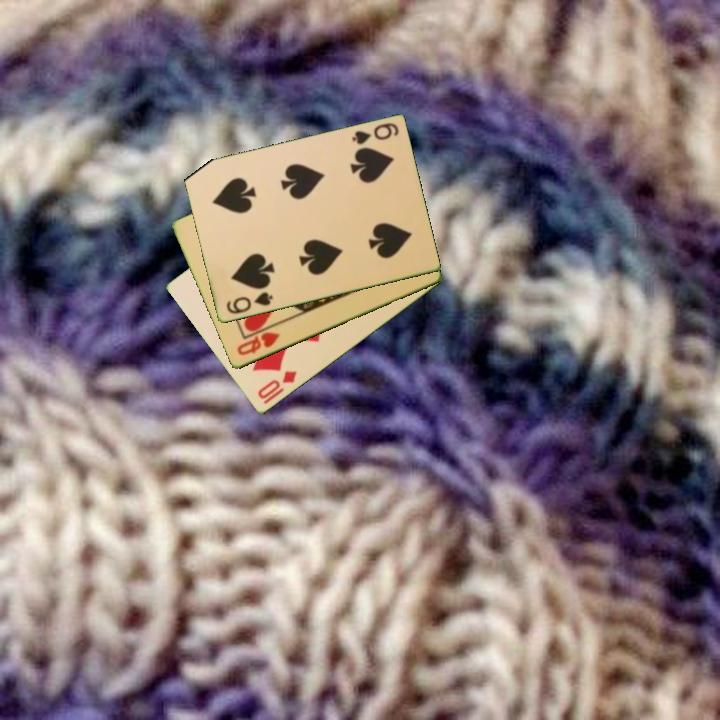10d: (254, 367, 300, 407)
6s: (222, 289, 276, 317), (348, 120, 401, 148)
Qh: (233, 328, 283, 359)
